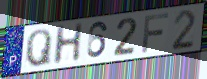2: (171, 8, 196, 52), (113, 17, 139, 59)
6: (86, 20, 108, 61)
F: (140, 11, 170, 54)
H: (51, 21, 86, 67)
Q: (24, 28, 53, 69)
